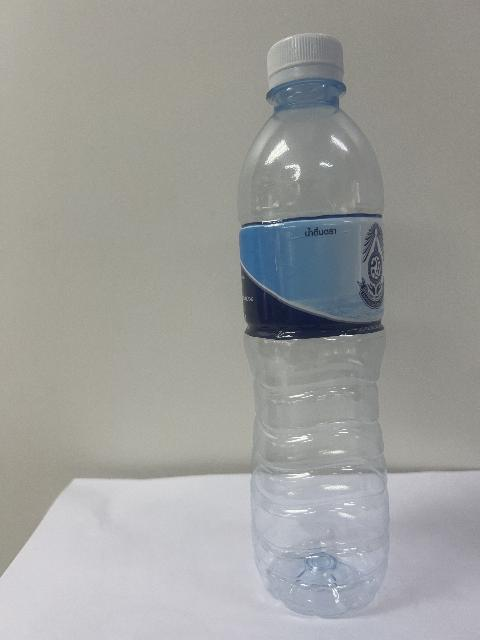bottle: (239, 34, 388, 616)
